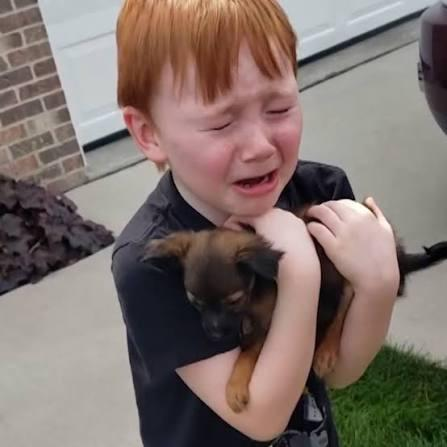non-dog: (112, 1, 401, 442)
puppy-dog: (140, 196, 447, 415)
